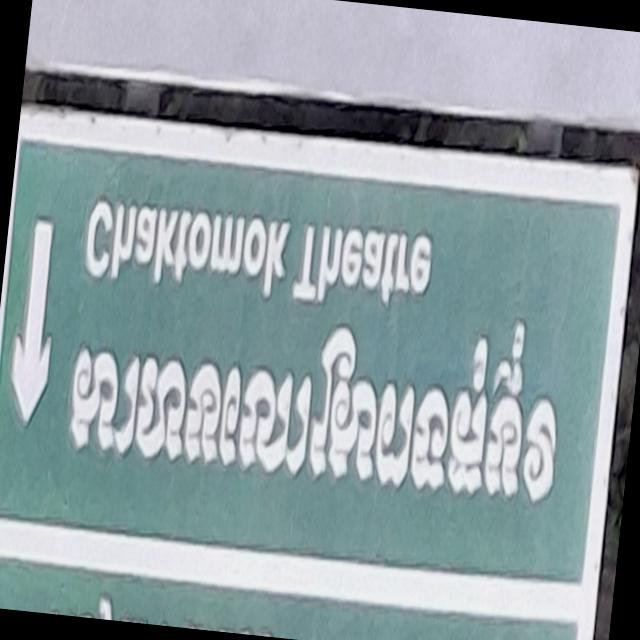Yolov11_80vkh: (25, 268, 608, 576)
